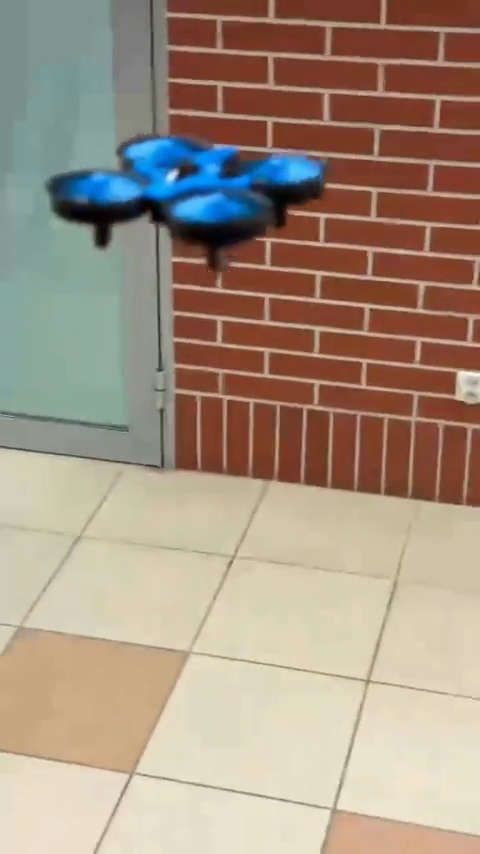drone: (54, 130, 328, 264)
